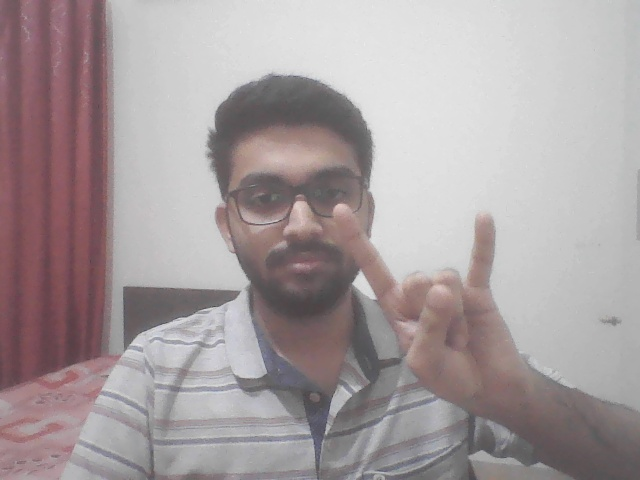iloveyou: (317, 197, 537, 426)
